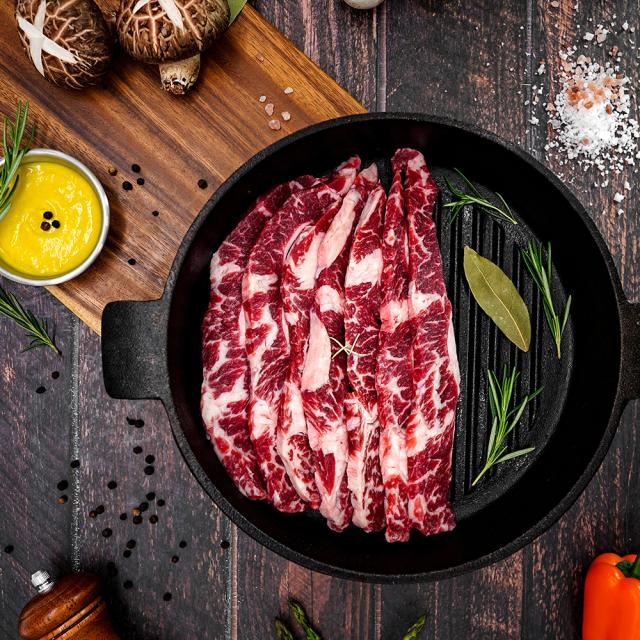beef: (228, 198, 440, 511)
